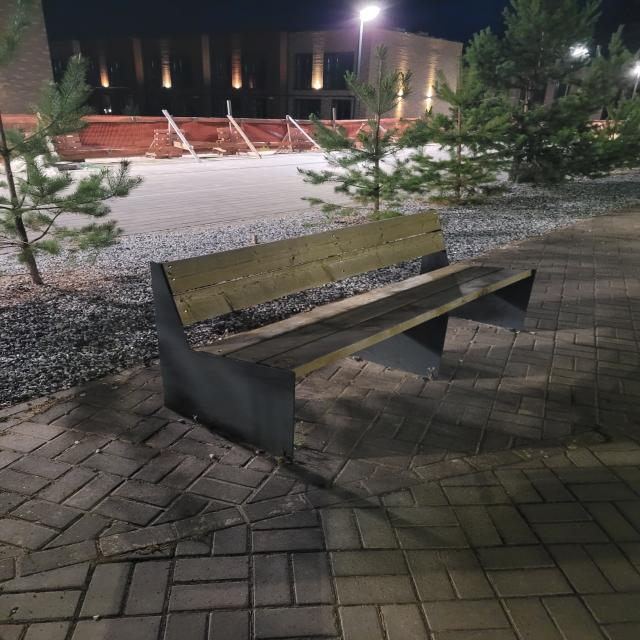Bench: (151, 210, 538, 460)
